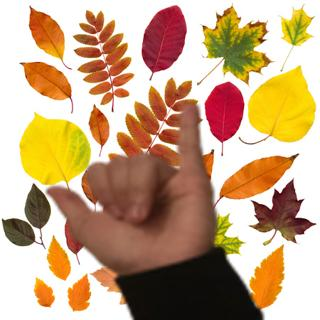HAVE: (40, 96, 220, 277)
